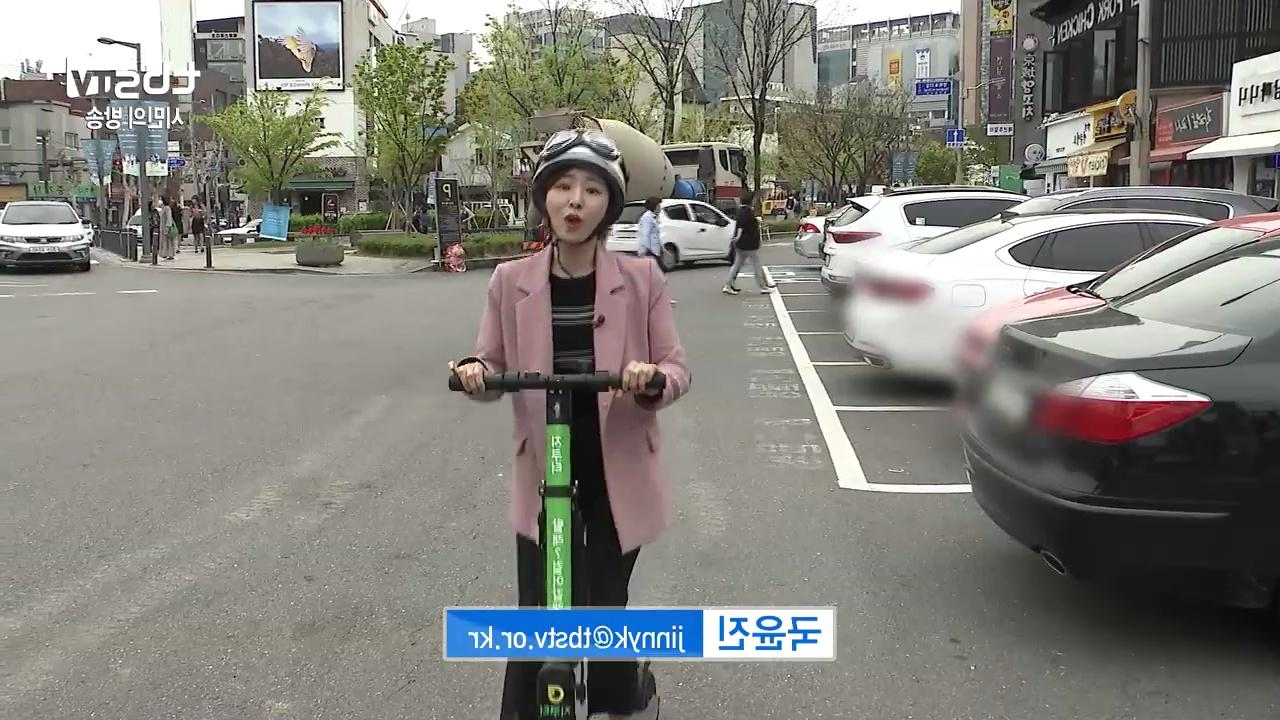helmet: (446, 124, 693, 720)
